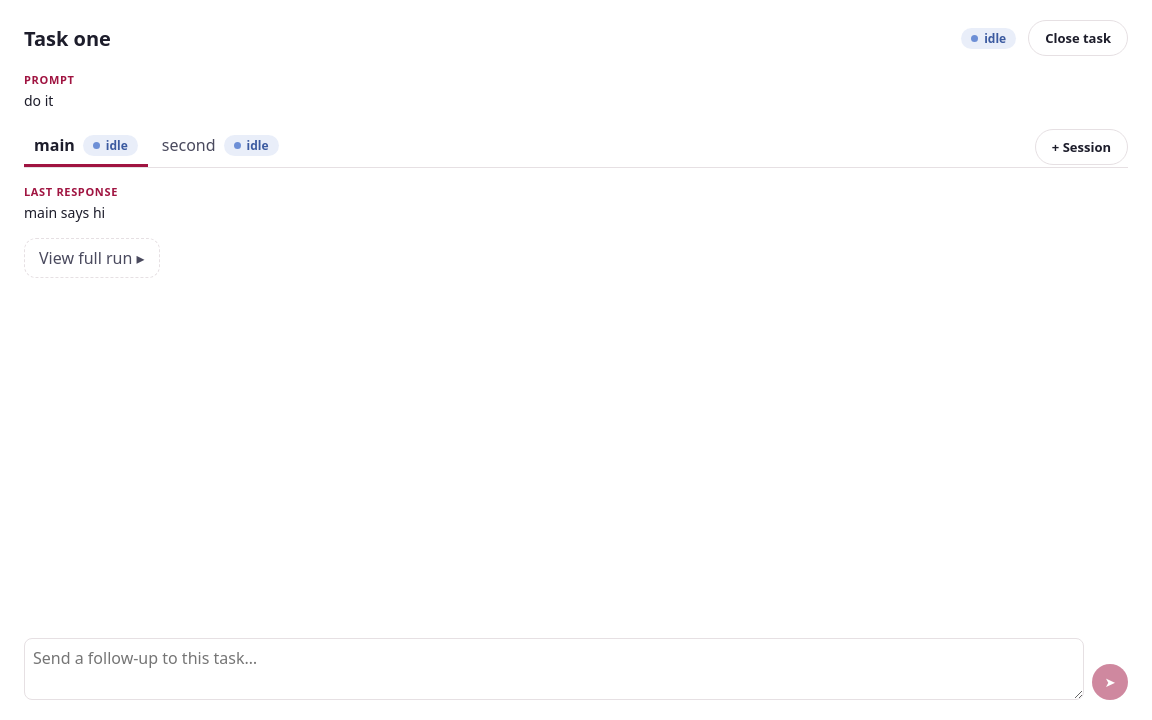
session tabs › lists tabs in order and switches the shown response
The width and height of the screenshot is (1152, 720).
Expected: the text "main says hi" is shown, [24,203,105,222]
What coordinates should you click on to do the following:
click the tab "second idle"
I would click on:
 (220, 146)
Its box is [152,126,289,167].
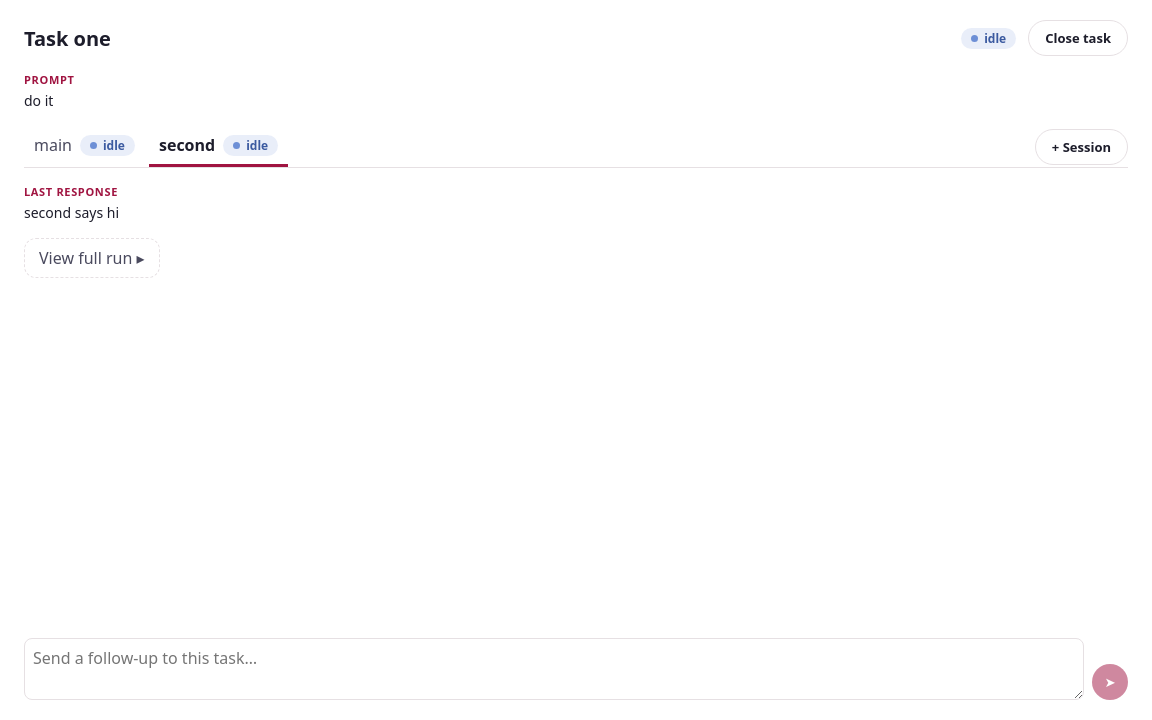
Result: the text "second says hi" is shown at [24,203,119,222]
Result: the text "main says hi" is gone
